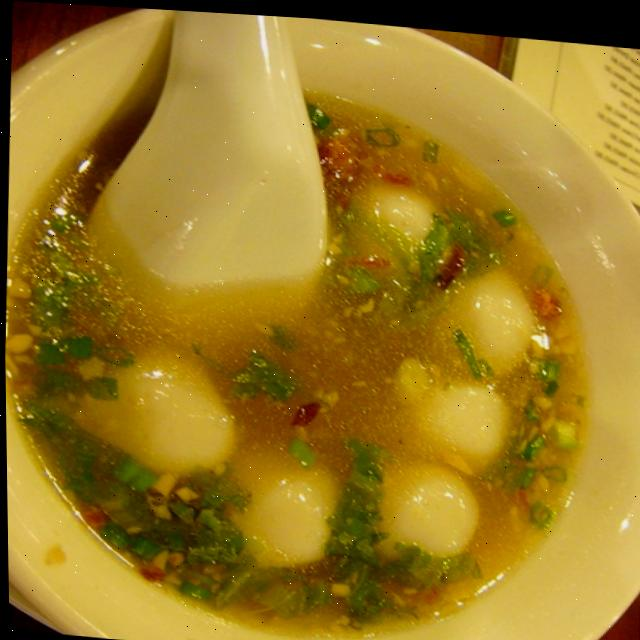熟制海鲜: (0, 12, 638, 640)
